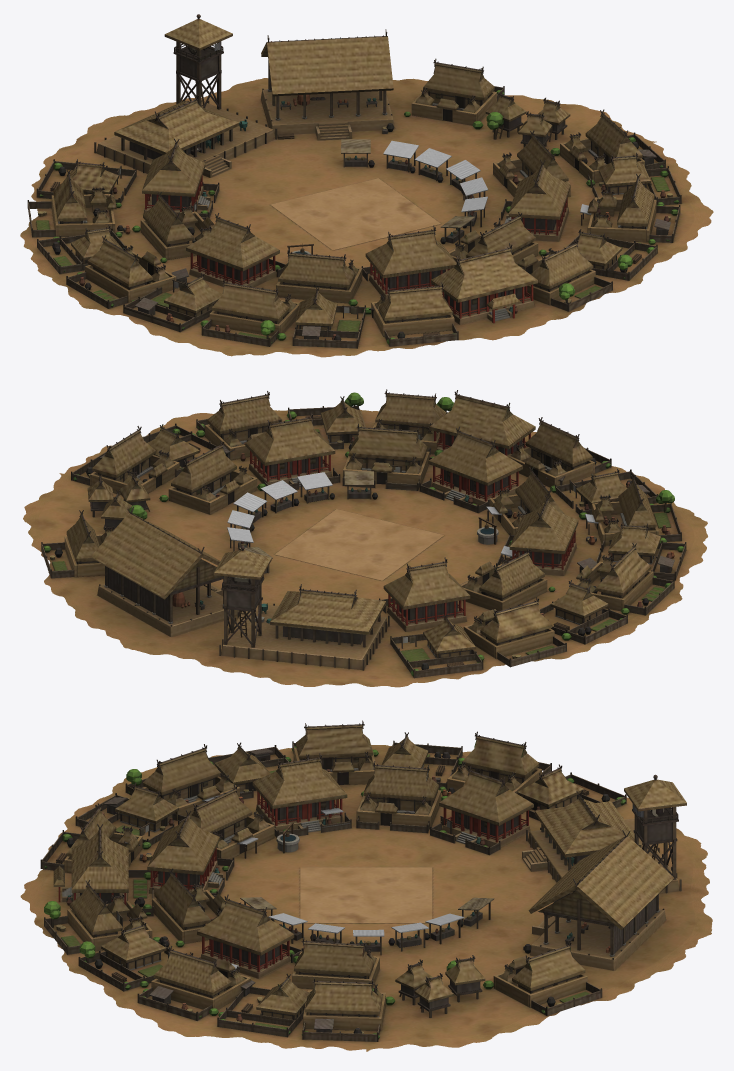
File: bronze-town-big-b-sinic.glb
3 views of the same model, one above another, from view 1: azimuth 30°, elevation 25°; view 2: azimuth 150°, elevation 25°; view 3: azimuth 270°, elevation 25° (orthographic). The views are drawn at different scales.
Parts seen in each view (by area): view 1: LOD0; view 2: LOD0; view 3: LOD0.
Boxes of the visible parts, bbox=[...] form: LOD0: bbox=[20, 14, 713, 357]; LOD0: bbox=[23, 389, 707, 687]; LOD0: bbox=[20, 720, 712, 1051].
Size of what is drawn, in the model's own units: 7.93 by 1.32 by 7.49.
3 materials, 3 textured.
